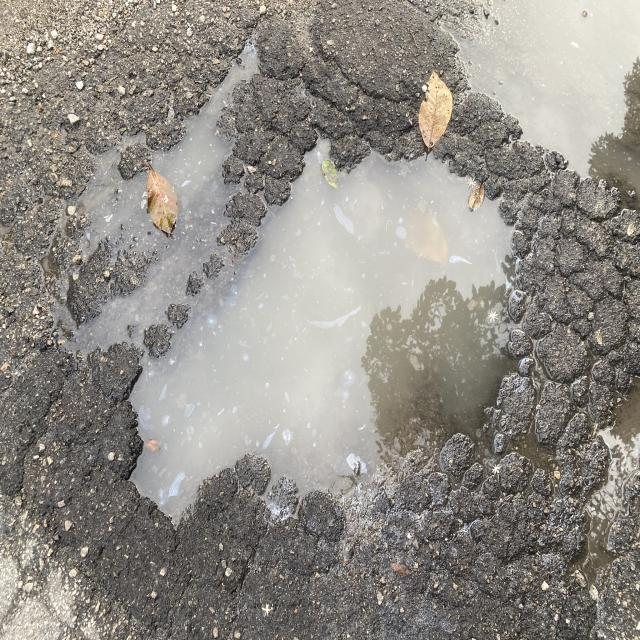Pothole: (48, 72, 600, 548)
